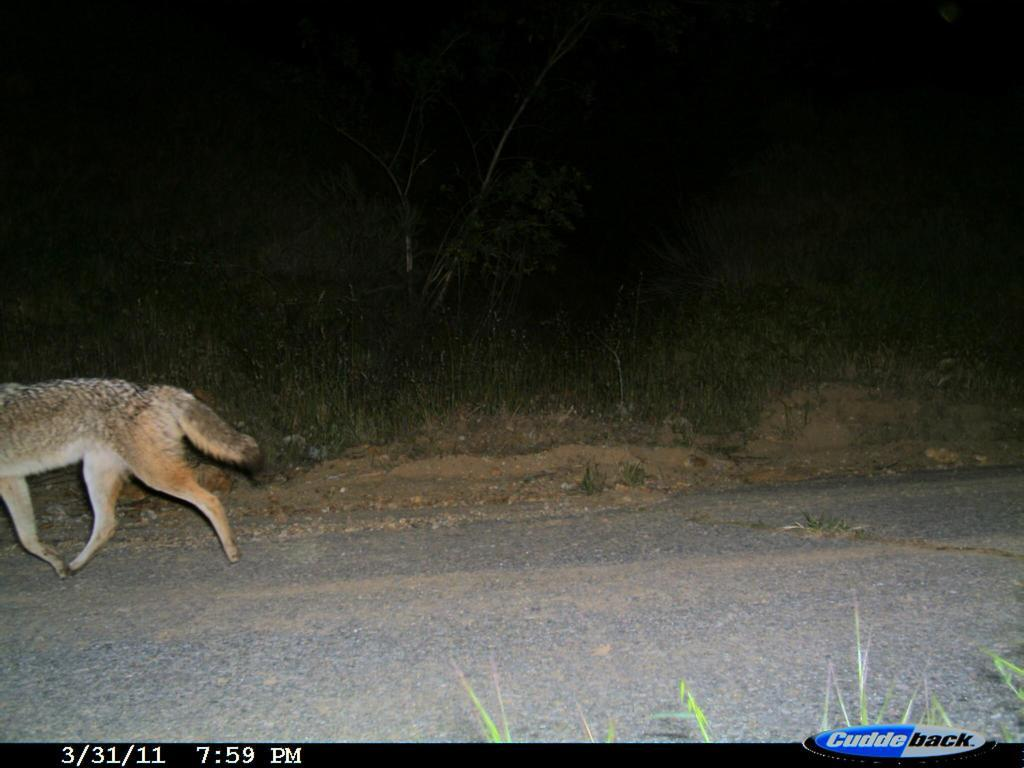coyote: (1, 374, 274, 588)
